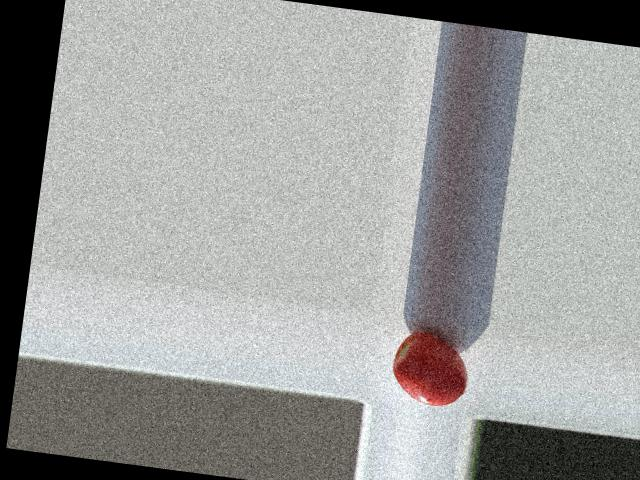tomato: (388, 328, 473, 409)
